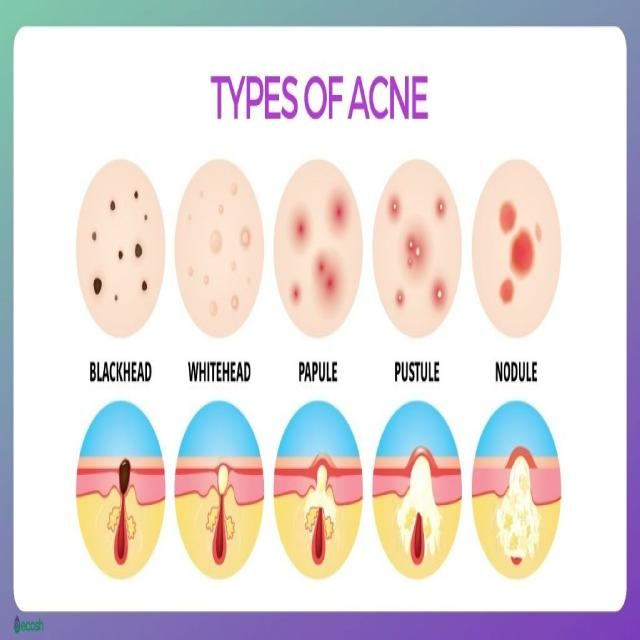acne: (181, 176, 254, 332), (289, 181, 351, 325), (385, 186, 450, 320)
